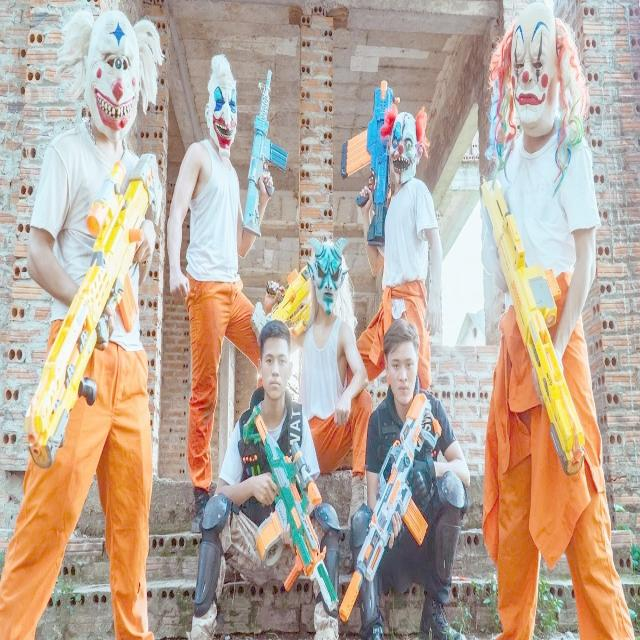Nerf gun: (17, 153, 163, 478), (474, 164, 590, 484), (337, 384, 445, 614), (236, 401, 346, 623), (333, 68, 407, 250), (236, 63, 296, 243), (246, 267, 318, 345)
